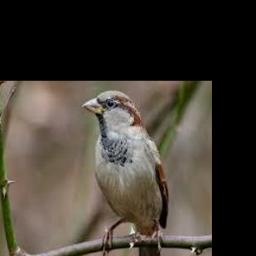Sparrow: (82, 90, 168, 256)
